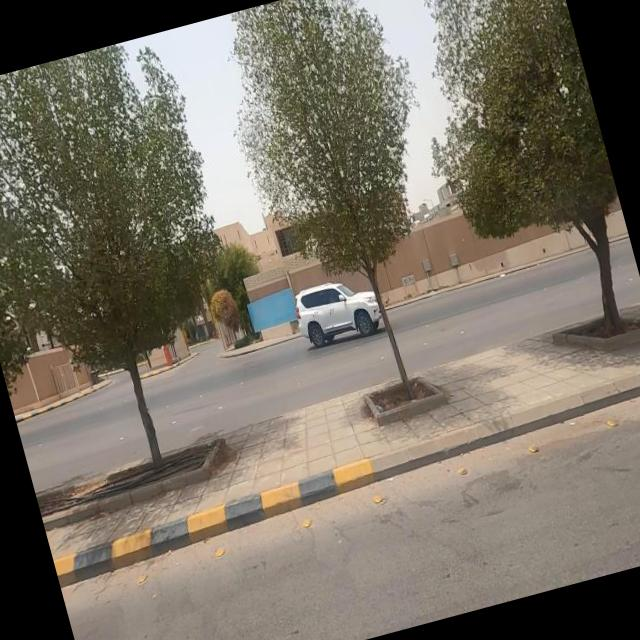debris: (350, 373, 404, 442)
